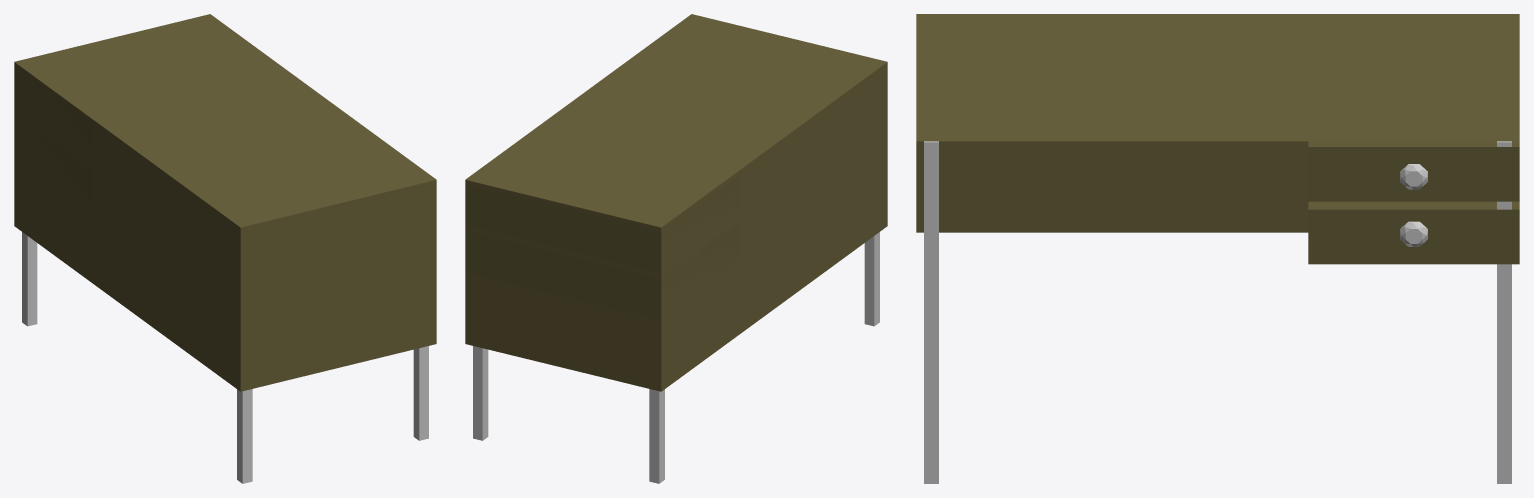
File: Escritorio de madera v1.dae
The picture shows the model from 3 angles, left to right: view 1: azimuth 30°, elevation 25°; view 2: azimuth 150°, elevation 25°; view 3: azimuth 270°, elevation 25°; orthographic projection. The views are drawn at different scales.
Visible parts, largest first — view 1: Escritorio; view 2: Escritorio; view 3: Escritorio.
Part boxes in pixels (x1,y1,x2,y2): Escritorio: (14,14,436,483); Escritorio: (465,14,887,483); Escritorio: (916,14,1519,483).
Bounding box in the file's own units: 1.04 × 2 × 1.27.
